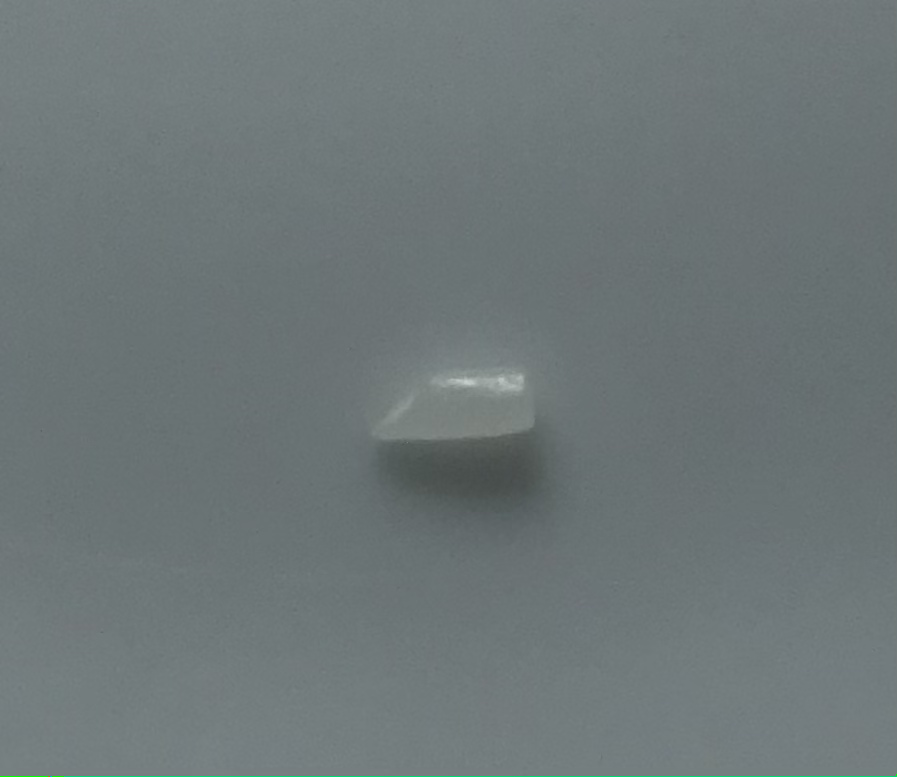Gao Tam: (373, 361, 541, 461)
